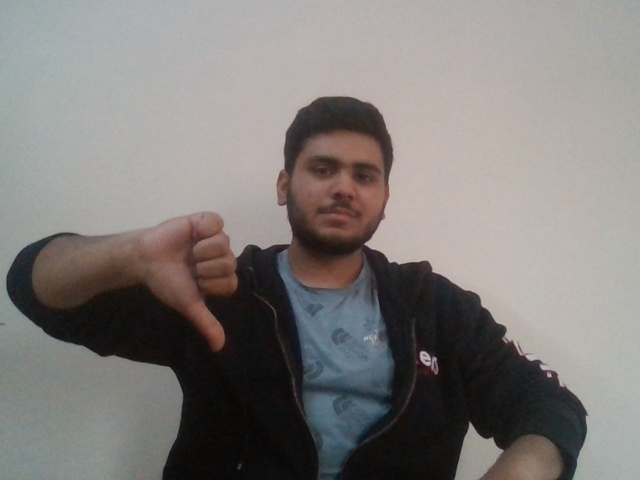No: (138, 199, 249, 357)
